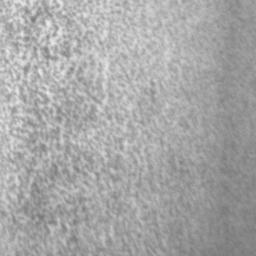Pitted surface: (0, 0, 213, 256), (191, 0, 245, 82), (213, 142, 246, 184), (218, 91, 235, 128), (221, 206, 229, 217)
